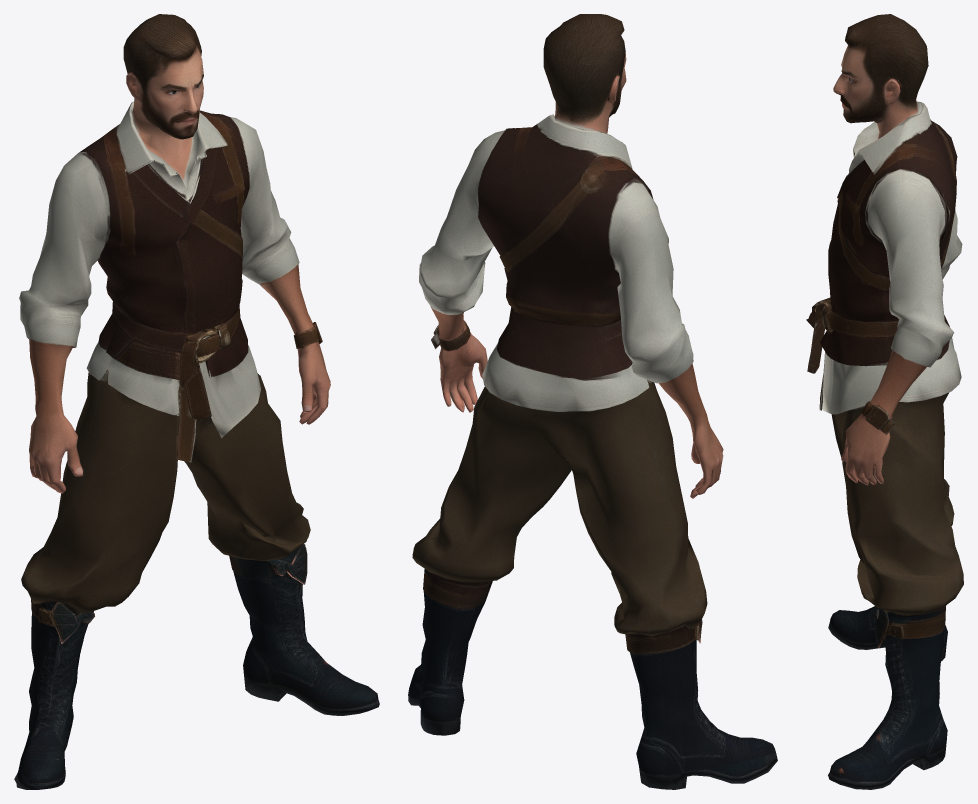
The model's file is Sailor.glb.
3 renders of one model, left to right at view 1: azimuth 30°, elevation 25°; view 2: azimuth 150°, elevation 25°; view 3: azimuth 270°, elevation 25°, orthographic. The views are drawn at different scales.
Size of the model in its own units: 0.4868 by 0.9517 by 0.1982.
Materials: 1 (1 with a texture image).
